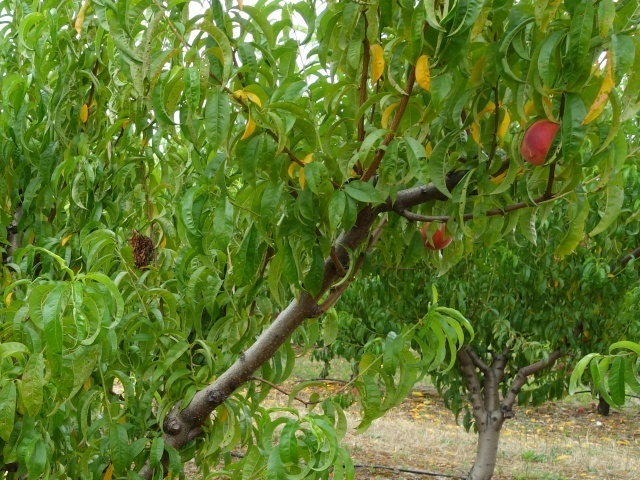peach: (518, 114, 566, 172), (416, 215, 456, 254)
